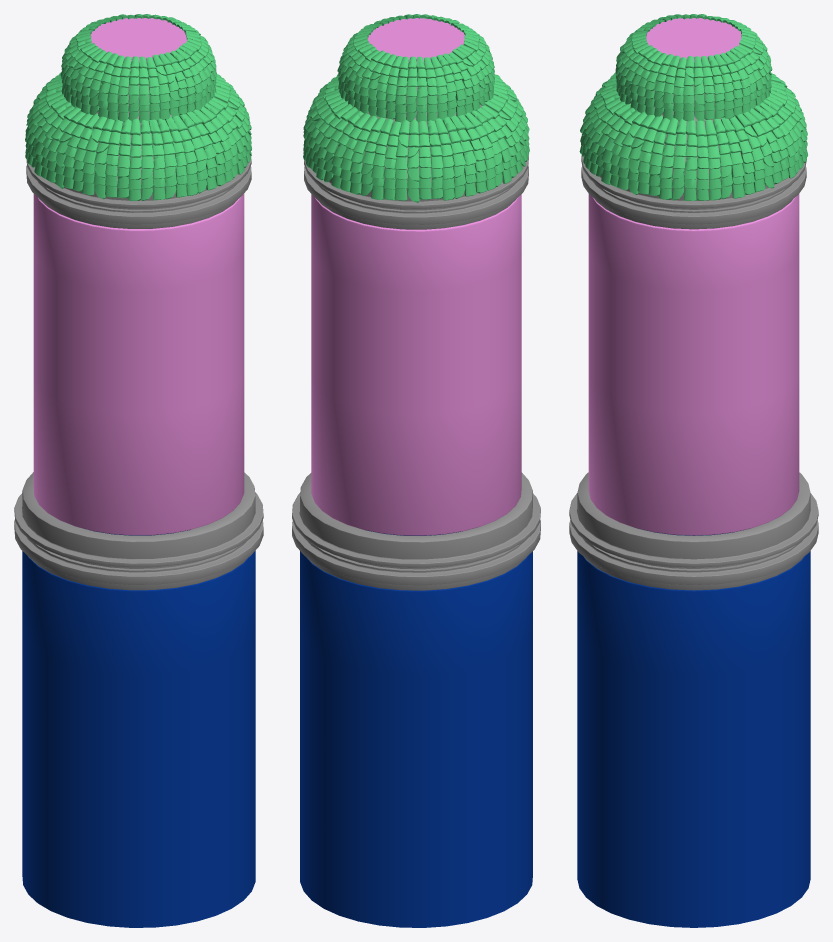
Rendered from tower01.fbx.
3 renders of one model, left to right at view 1: azimuth 30°, elevation 25°; view 2: azimuth 150°, elevation 25°; view 3: azimuth 270°, elevation 25°, orthographic.
Visible parts, largest first — view 1: tower01; view 2: tower01; view 3: tower01.
Part boxes in pixels (bbox=[...]): tower01: bbox=[14, 14, 263, 927]; tower01: bbox=[292, 14, 540, 927]; tower01: bbox=[569, 14, 818, 927].
Size of the model in its own units: 4.41 by 16.43 by 4.41.
